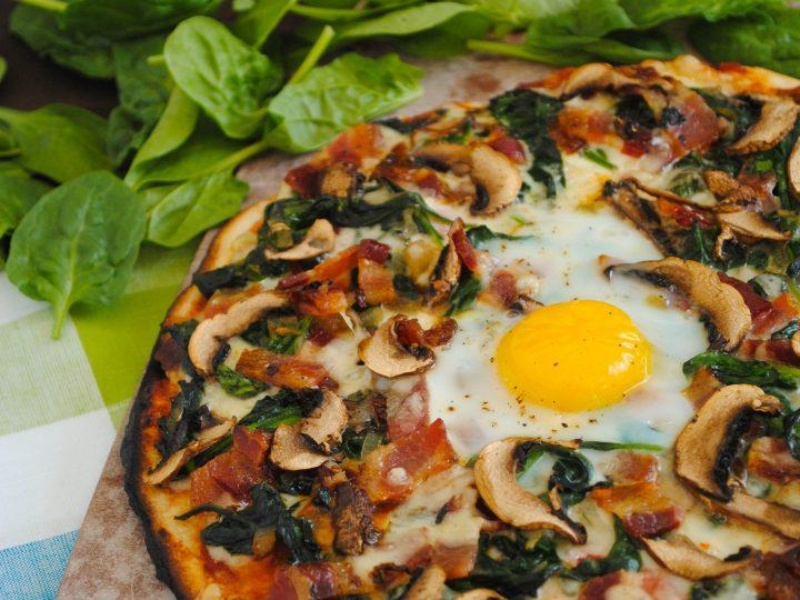champignon: (616, 245, 778, 361), (466, 432, 595, 550), (354, 314, 448, 382), (464, 135, 533, 224)
oeuf: (479, 281, 676, 427)
